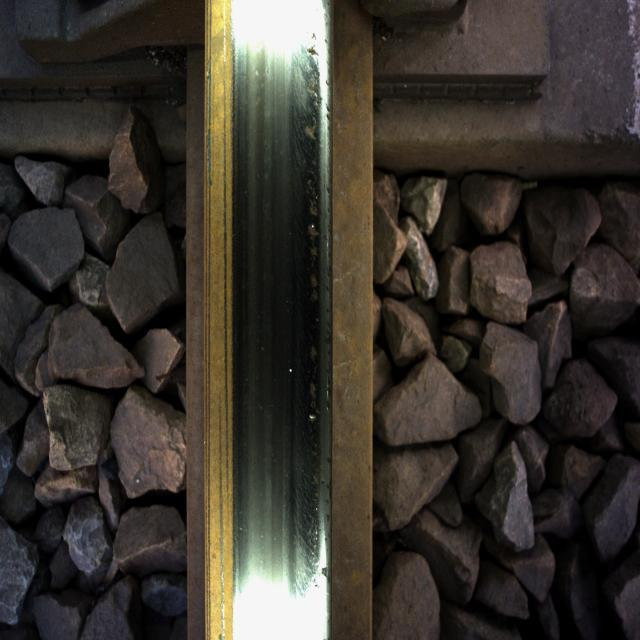scar: (242, 12, 338, 618)
